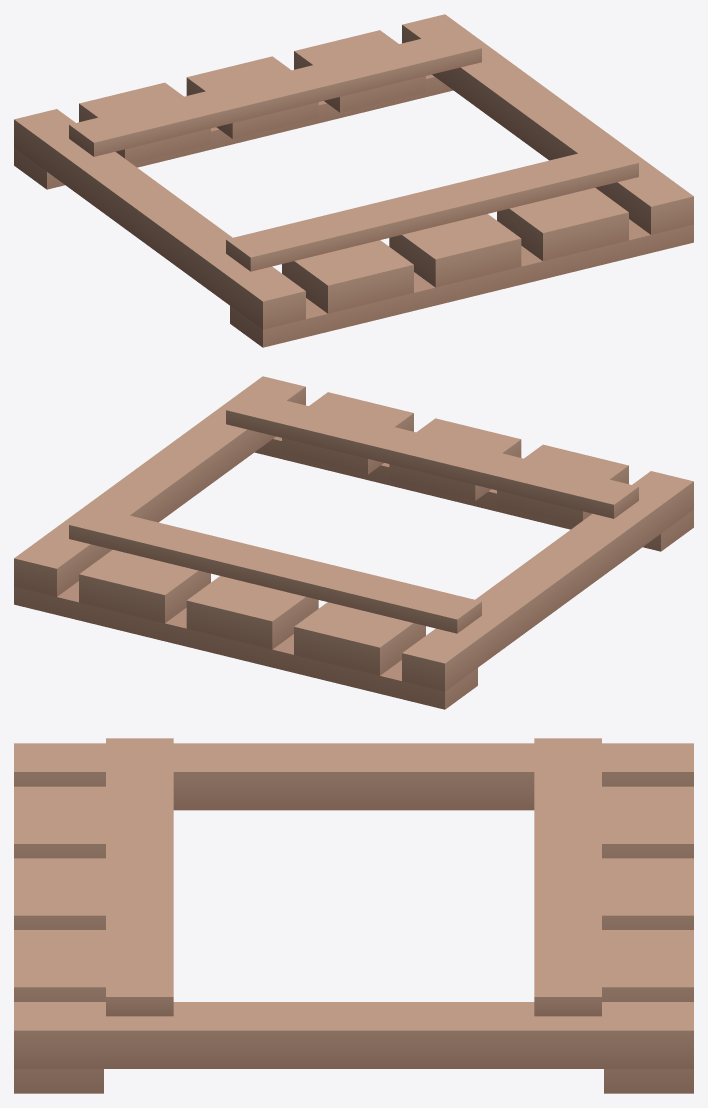
File: floor-hole.glb
3 views of the same model, one above another, from view 1: azimuth 30°, elevation 25°; view 2: azimuth 150°, elevation 25°; view 3: azimuth 270°, elevation 25° (orthographic). The views are drawn at different scales.
Parts seen in each view (by area): view 1: floor-hole; view 2: floor-hole; view 3: floor-hole.
Boxes of the visible parts, <box> form: floor-hole: <box>14,14,693,347</box>; floor-hole: <box>14,376,693,709</box>; floor-hole: <box>14,738,693,1093</box>.
Size of the model in its own units: 0.5 by 0.0668 by 0.5.
